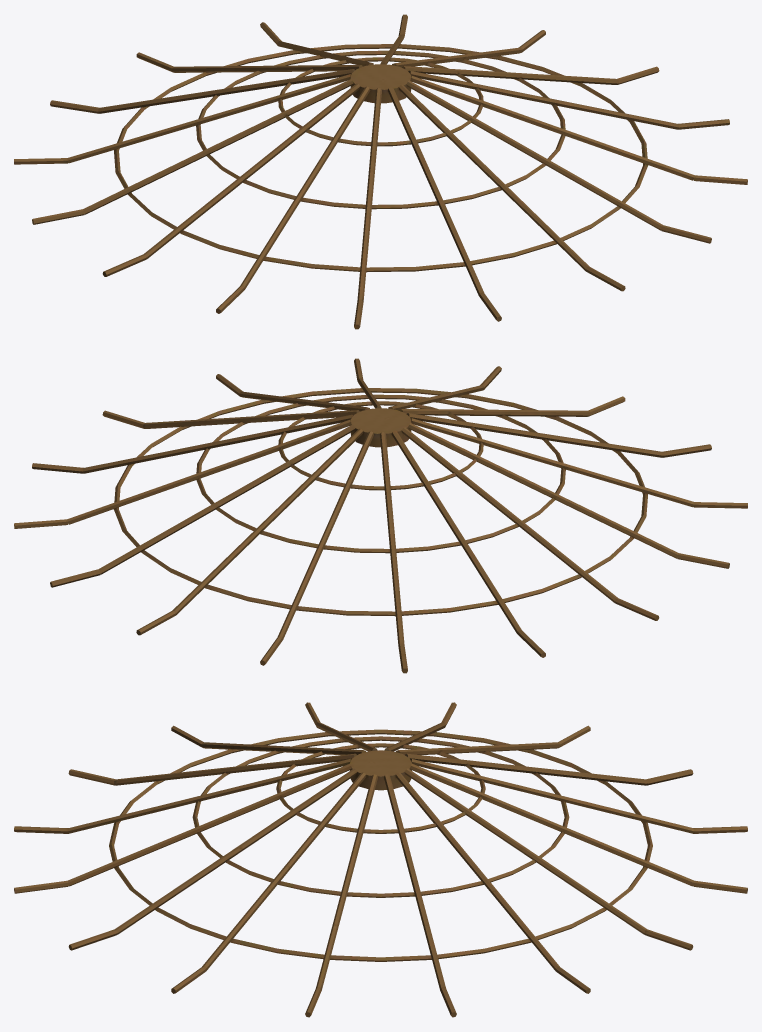
The model's file is island_bar_soffit_rafters.glb.
The picture shows the model from 3 angles, top to bottom: view 1: azimuth 30°, elevation 25°; view 2: azimuth 150°, elevation 25°; view 3: azimuth 270°, elevation 25°; orthographic projection.
Visible parts, largest first — view 1: island_bar_soffit_rafters; view 2: island_bar_soffit_rafters; view 3: island_bar_soffit_rafters.
Part boxes in pixels (bbox=[...]): island_bar_soffit_rafters: bbox=[14, 14, 747, 329]; island_bar_soffit_rafters: bbox=[14, 358, 747, 673]; island_bar_soffit_rafters: bbox=[14, 702, 747, 1017].
Bounding box in the file's own units: 9.67 × 1.48 × 9.67.
Materials: 1 (1 with a texture image).
